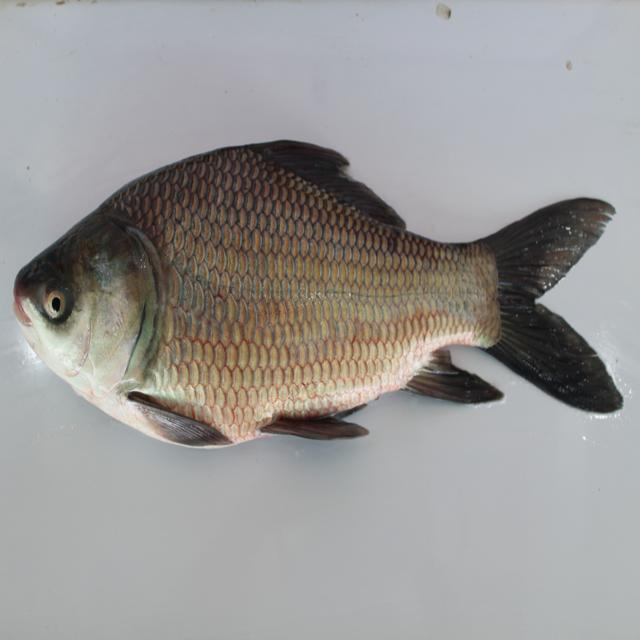Catla: (12, 130, 632, 450)
